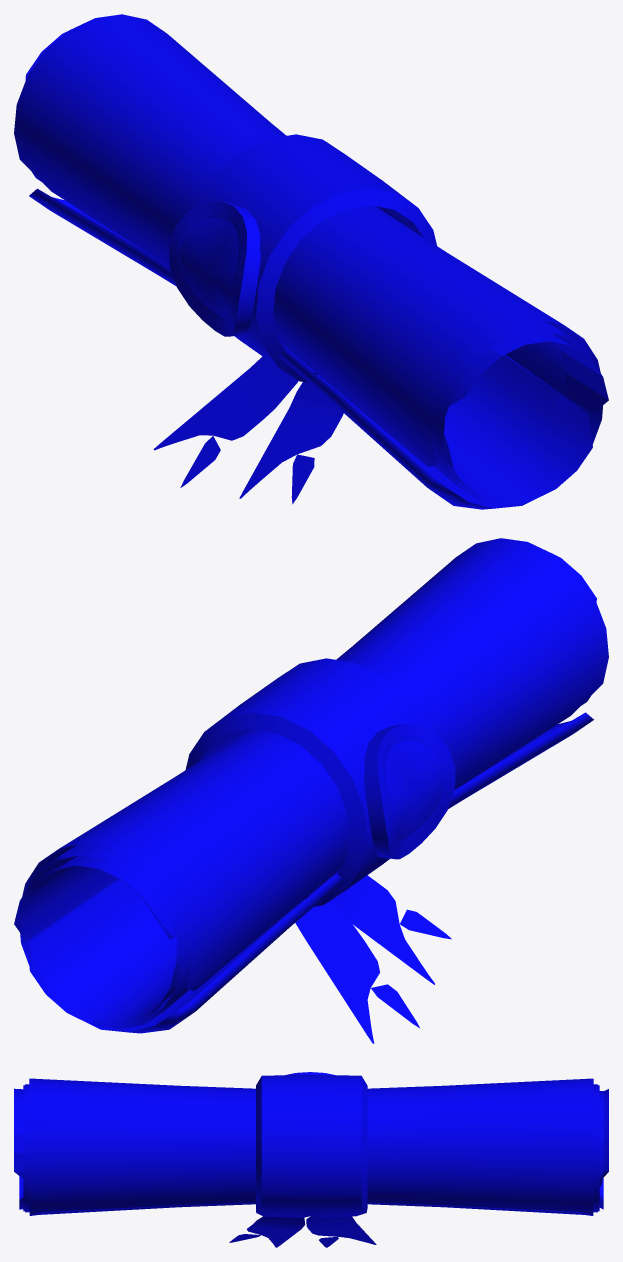
The model's file is Scroll.fbx.
3 renders of one model, top to bottom at view 1: azimuth 30°, elevation 25°; view 2: azimuth 150°, elevation 25°; view 3: azimuth 270°, elevation 25°, orthographic. The views are drawn at different scales.
Visible parts, largest first — view 1: Scroll; view 2: Scroll; view 3: Scroll.
Boxes of the visible parts, x1,y1,x2,y2 form: Scroll: (14, 14, 608, 509); Scroll: (14, 538, 608, 1043); Scroll: (14, 1072, 608, 1247).
Bounding box in the file's own units: 7.05 × 9.63 × 25.25.
